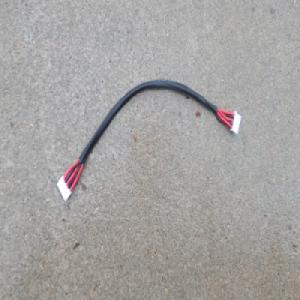Wire: (54, 76, 241, 205)
